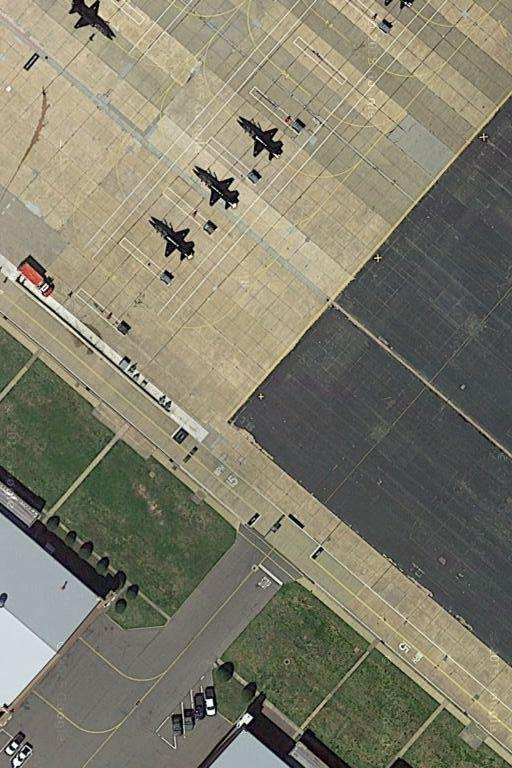plane: (235, 112, 292, 161), (147, 213, 200, 264), (191, 163, 244, 213), (63, 1, 118, 39)
